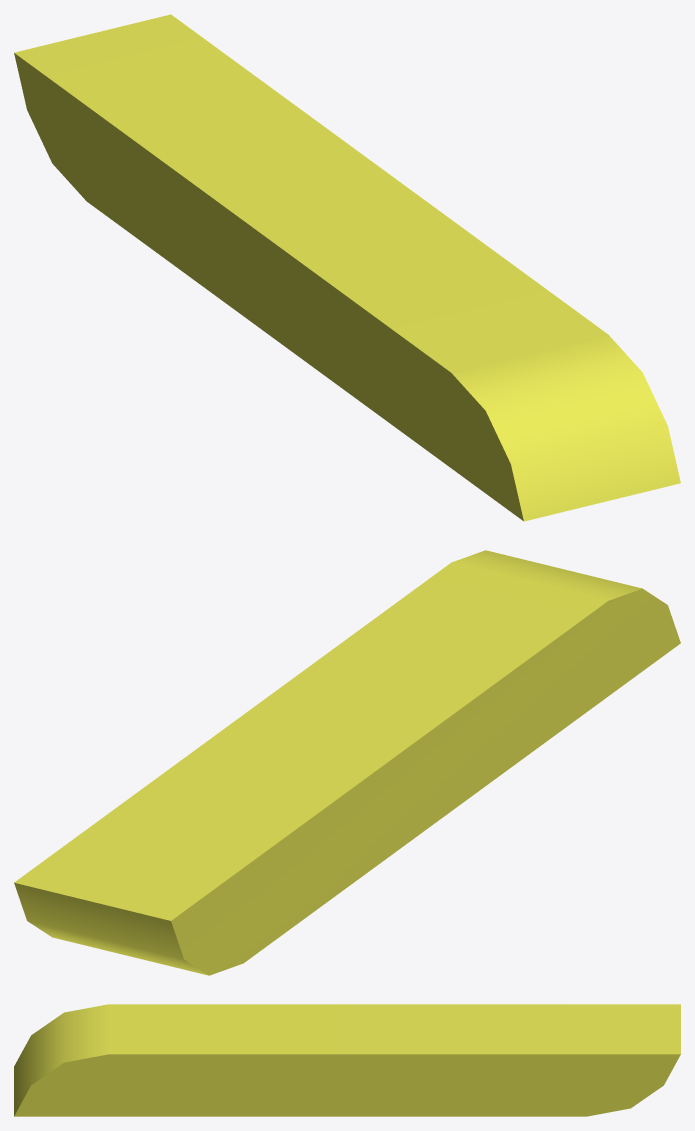
The model's file is Goma 3.fbx.
3 views of the same model, one above another, from view 1: azimuth 30°, elevation 25°; view 2: azimuth 150°, elevation 25°; view 3: azimuth 270°, elevation 25° (orthographic). The views are drawn at different scales.
Visible parts, largest first — view 1: Goma_3; view 2: Goma_3; view 3: Goma_3.
Boxes of the visible parts, bbox=[...] form: Goma_3: bbox=[14, 14, 680, 521]; Goma_3: bbox=[14, 550, 680, 975]; Goma_3: bbox=[14, 1004, 680, 1116].
Bounding box in the file's own units: 0.0106 × 0.00618 × 0.0597.
